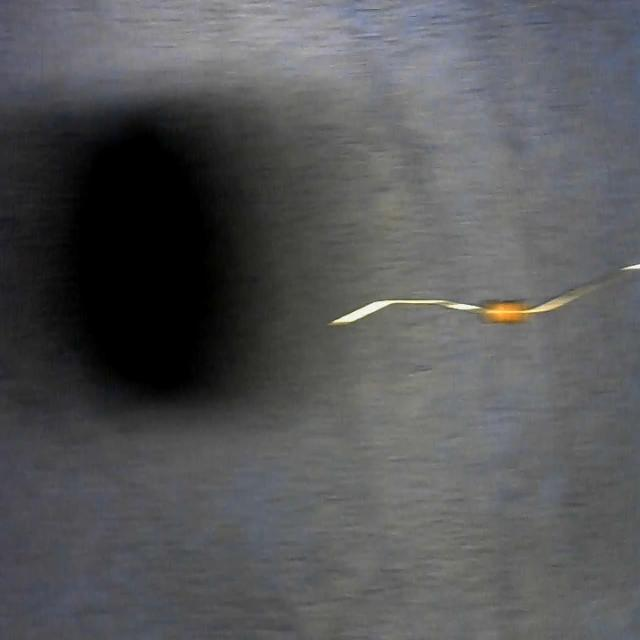resistor: (330, 263, 640, 329)
